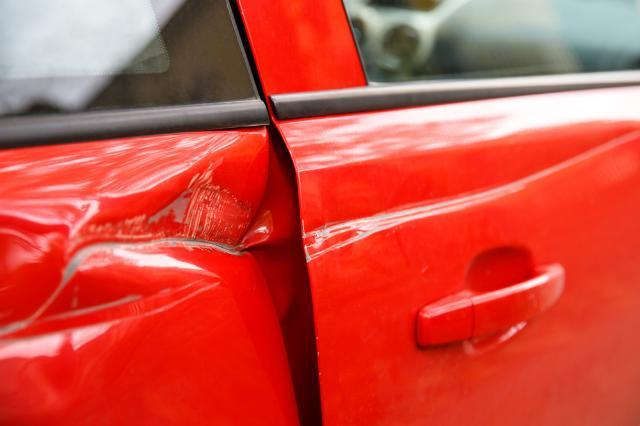dent: (0, 181, 245, 346)
scratch: (304, 129, 636, 264)
